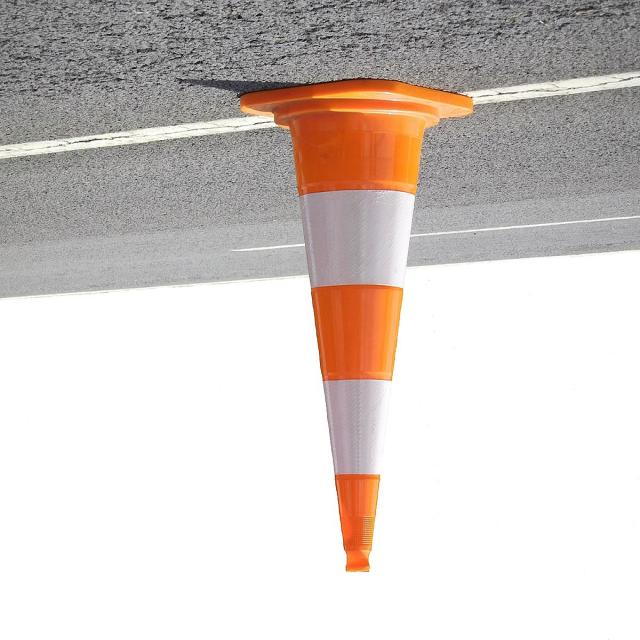cone: (230, 67, 482, 581)
